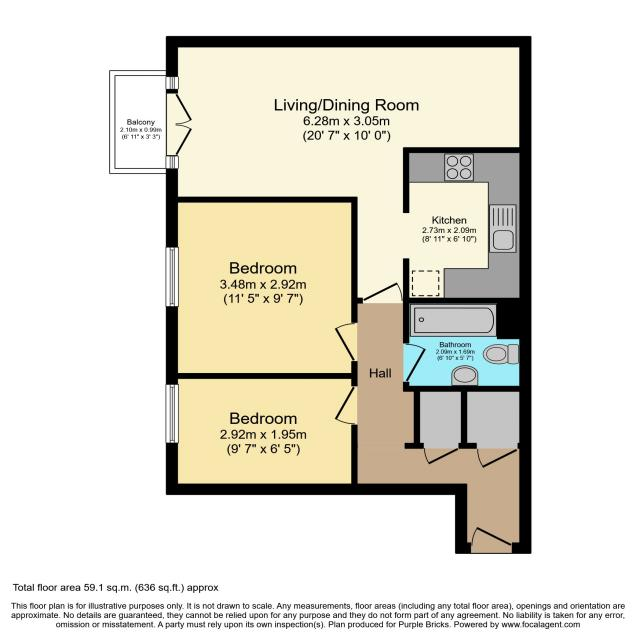DOOR: (469, 526, 514, 554), (332, 384, 358, 426), (402, 341, 428, 383), (332, 322, 358, 362), (361, 281, 404, 304)
DOUBLE DOOR: (164, 89, 194, 157)
ROOM: (165, 35, 532, 304), (165, 196, 358, 379), (165, 373, 358, 496)
WINDOW: (164, 246, 180, 308), (165, 383, 180, 444), (165, 76, 180, 90), (165, 156, 180, 169)
